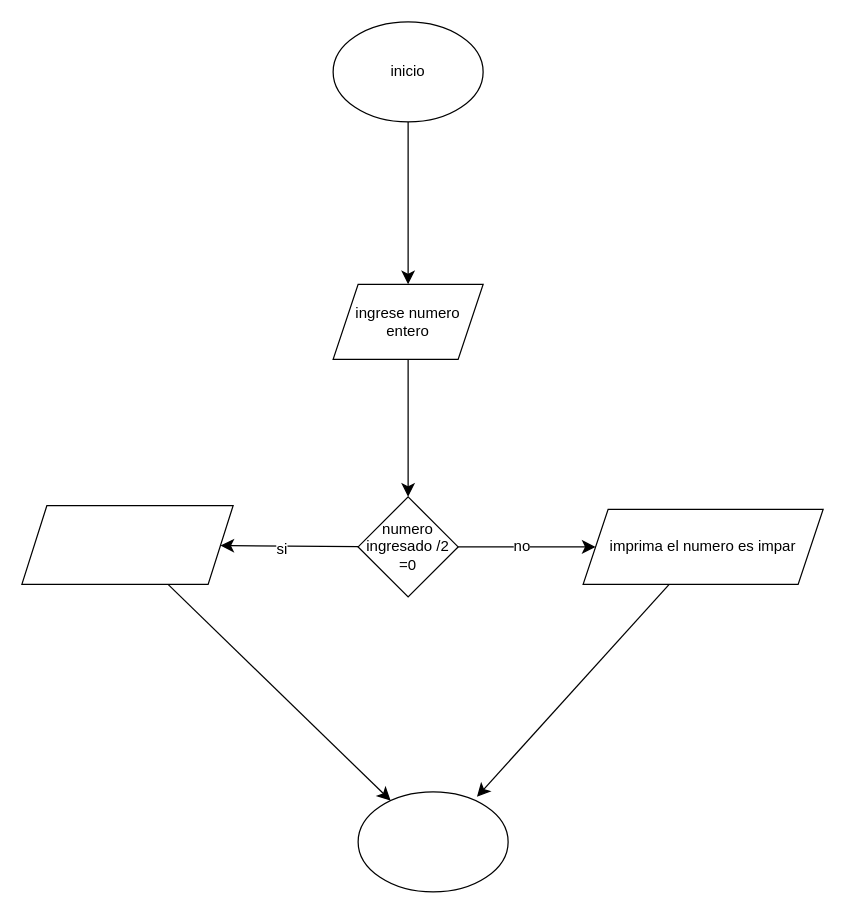
The diagram is 845 pixels wide and 914 high, and some of its shapes have lost their labels. Each missing label, with the centre of its shape:
fin: point (432, 841)
imprima el numero es par: point (127, 544)
